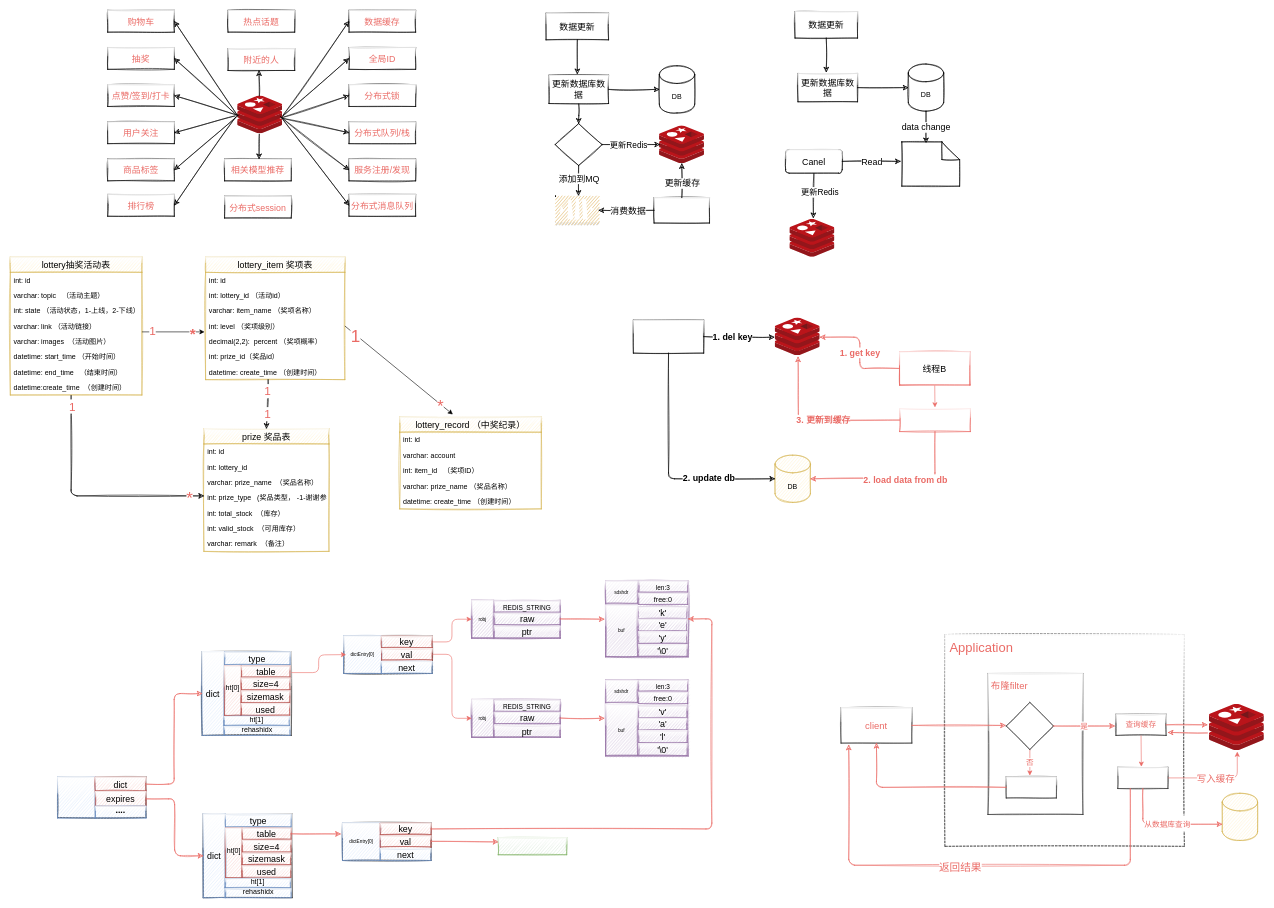
Some shapes in this 1274 by 908 pixel diagram are drawn without their labels. The centre of each missing label's shape, as x and y in pixels:
Binary Log: the point at 930,163
Cache Miss: the point at 934,420
key存在?: the point at 1029,726
redisDb: the point at 76,797
timestamp: the point at 532,846
更新成功？: the point at 578,144
消费者: the point at 681,210
直接返回: the point at 1031,787
线程A: the point at 668,336
缓存不存在: the point at 1142,778
